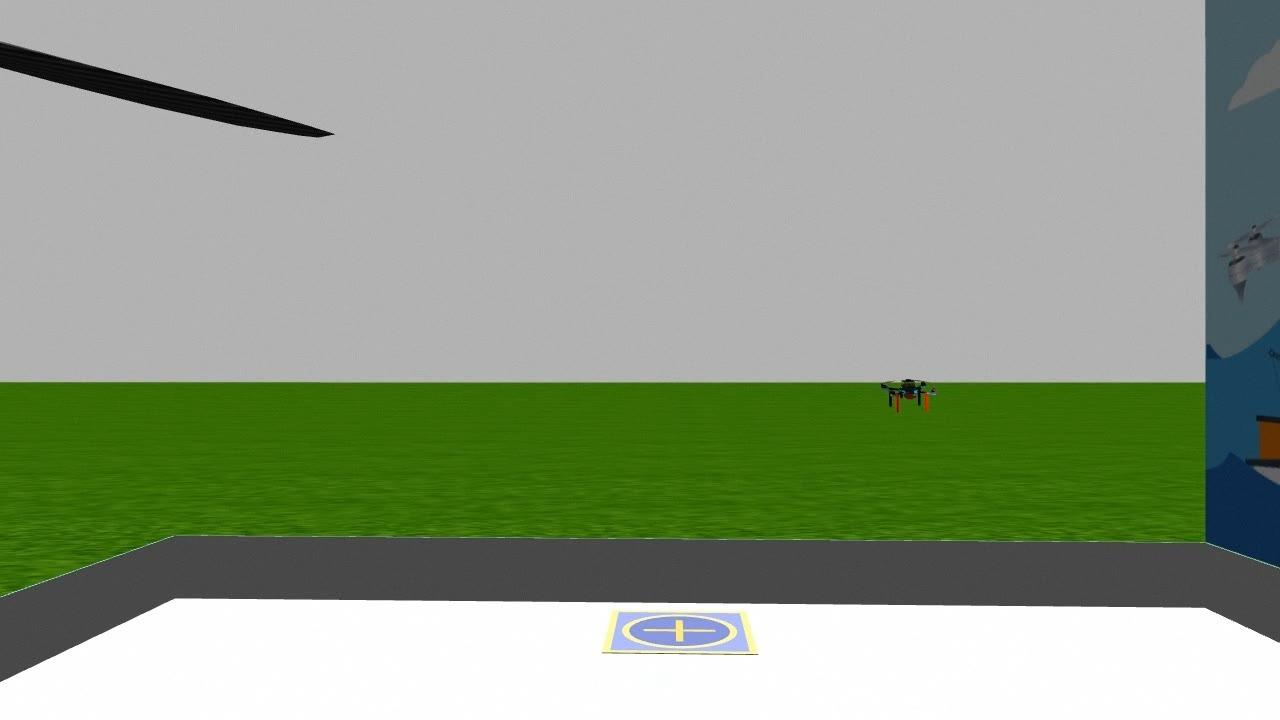UAV: (873, 370, 948, 420)
